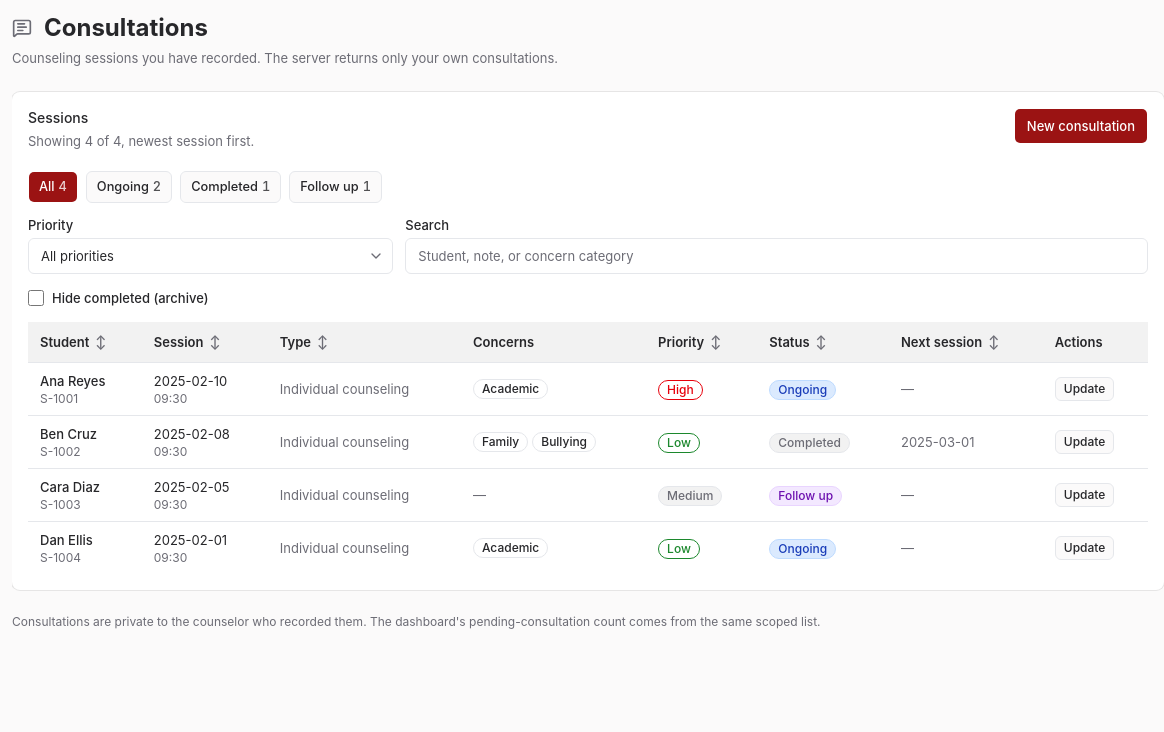
ConsultationsPage › searches across student name, notes, and concern categories
Expected: the text "Ana Reyes" is shown, top-left (40, 373), bottom-right (105, 389)
Type "bullying" into the search field labelled "Search" at x=777, y=256, box top-left (405, 238), bottom-right (1148, 274)
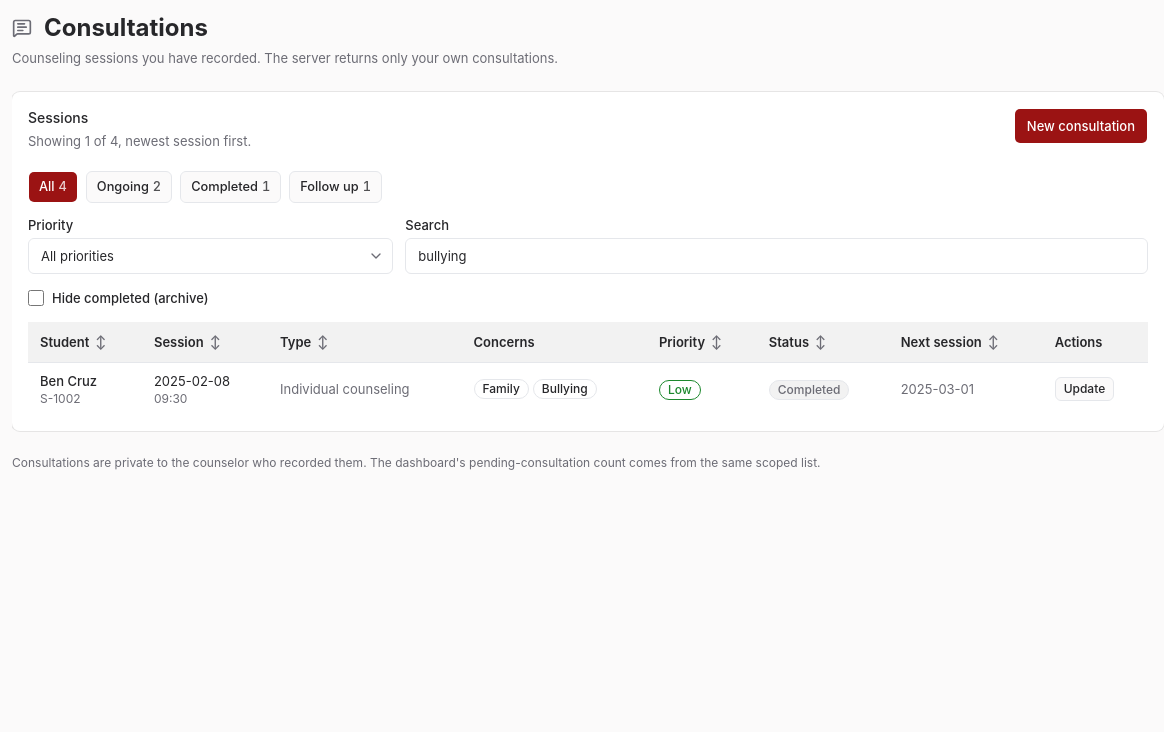
Expected: the text "Ben Cruz" is shown, top-left (40, 373), bottom-right (97, 389)
Result: the text "Ana Reyes" is gone
